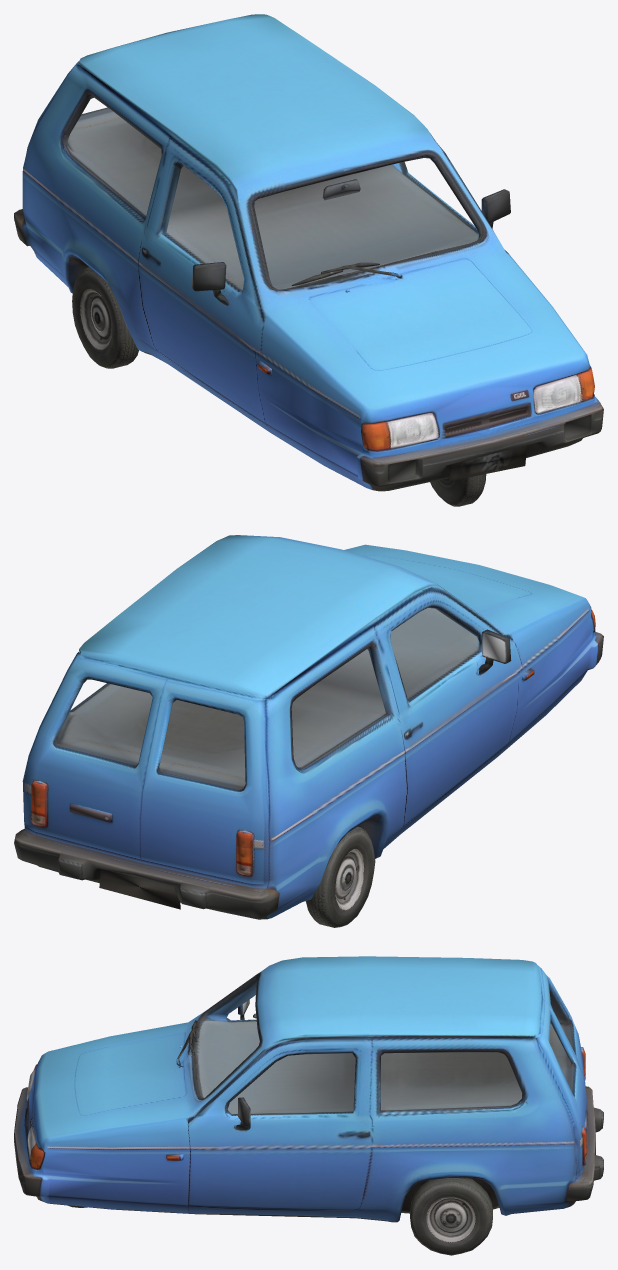
The model's file is car_1_reliant_robin.glb.
3 renders of one model, top to bottom at view 1: azimuth 30°, elevation 25°; view 2: azimuth 150°, elevation 25°; view 3: azimuth 270°, elevation 25°, orthographic. The views are drawn at different scales.
Parts seen in each view (by area): view 1: tripo_node_2e0c91a2-6576-4023-9f51-fcaff8a59fb9; view 2: tripo_node_2e0c91a2-6576-4023-9f51-fcaff8a59fb9; view 3: tripo_node_2e0c91a2-6576-4023-9f51-fcaff8a59fb9.
Boxes of the visible parts, x1,y1,x2,y2 form: tripo_node_2e0c91a2-6576-4023-9f51-fcaff8a59fb9: [14, 14, 603, 506]; tripo_node_2e0c91a2-6576-4023-9f51-fcaff8a59fb9: [14, 535, 603, 927]; tripo_node_2e0c91a2-6576-4023-9f51-fcaff8a59fb9: [14, 956, 603, 1255].
Bounding box in the file's own units: 0.498 × 0.4082 × 0.998.
Materials: 1 (1 with a texture image).
